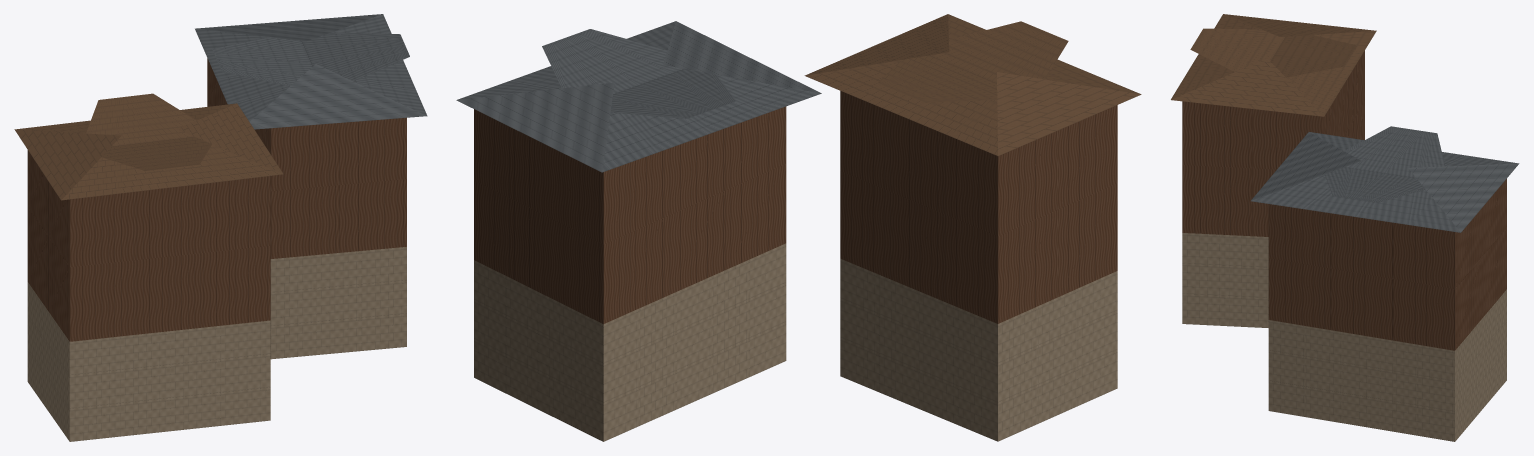
The model's file is bld_c33_47_240.gltf.
3 renders of one model, left to right at view 1: azimuth 30°, elevation 25°; view 2: azimuth 150°, elevation 25°; view 3: azimuth 270°, elevation 25°, orthographic. The views are drawn at different scales.
Parts seen in each view (by area): view 1: bld_c33_47_240; view 2: bld_c33_47_240; view 3: bld_c33_47_240.
Boxes of the visible parts, bbox=[...] form: bld_c33_47_240: bbox=[14, 14, 427, 441]; bld_c33_47_240: bbox=[456, 14, 1141, 441]; bld_c33_47_240: bbox=[1171, 14, 1519, 441].
Size of the model in its own units: 24.13 by 14 by 17.71.
Materials: 4 (4 with a texture image).
